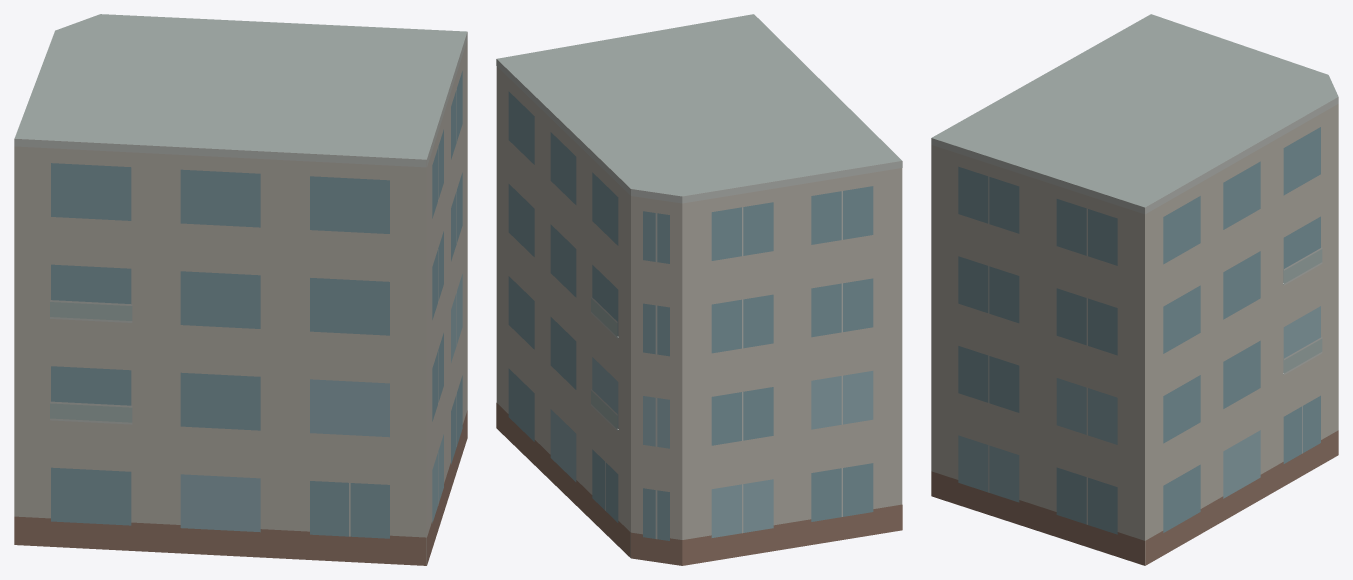
File: survey-upis-32965622.glb
3 views of the same model, side by side, from view 1: azimuth 30°, elevation 25°; view 2: azimuth 150°, elevation 25°; view 3: azimuth 270°, elevation 25° (orthographic). The views are drawn at different scales.
Parts seen in each view (by area): view 1: survey-upis-32965622.tmp; view 2: survey-upis-32965622.tmp; view 3: survey-upis-32965622.tmp.
Part boxes in pixels (left/top/right/bottom): survey-upis-32965622.tmp: left=14, top=14, right=467, bottom=565; survey-upis-32965622.tmp: left=496, top=14, right=902, bottom=565; survey-upis-32965622.tmp: left=931, top=14, right=1338, bottom=565.
Size of the model in its own units: 14.84 by 12.8 by 13.2.
